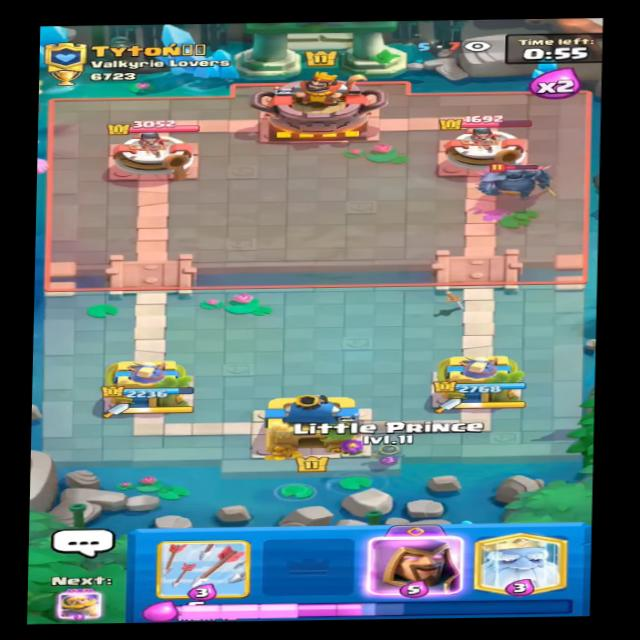pekka: (472, 152, 555, 203)
